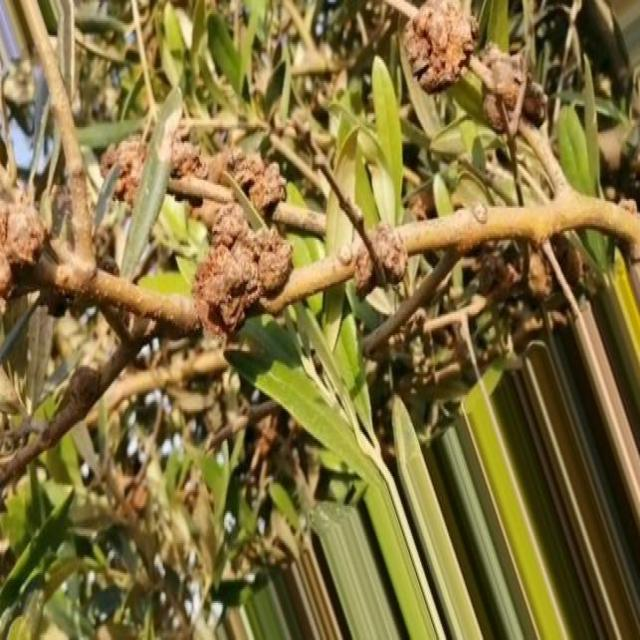Tuberculosis: (192, 203, 292, 339), (402, 0, 476, 93), (0, 189, 49, 298), (345, 224, 407, 294)
